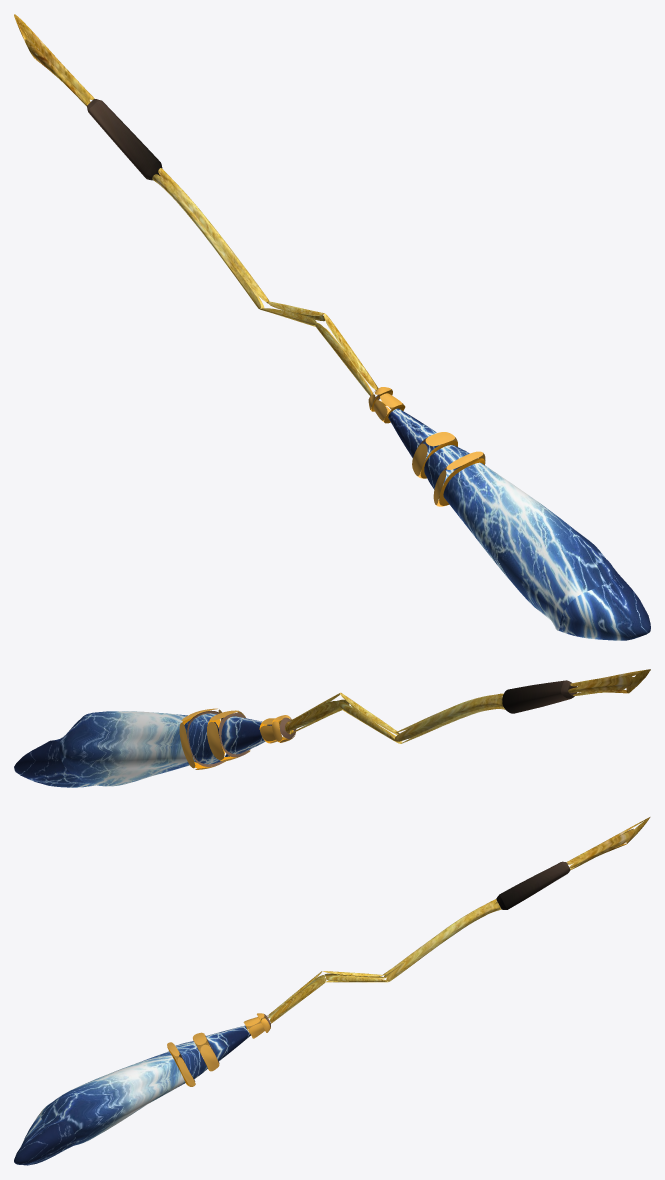
The model's file is goldLightning.glb.
3 renders of one model, top to bottom at view 1: azimuth 30°, elevation 25°; view 2: azimuth 210°, elevation 25°; view 3: azimuth 270°, elevation 25°, orthographic. The views are drawn at different scales.
Parts seen in each view (by area): view 1: MainStick; view 2: MainStick; view 3: MainStick.
Part boxes in pixels (x1,y1,x2,y2): MainStick: (14, 14, 650, 640); MainStick: (14, 669, 650, 787); MainStick: (14, 817, 650, 1165).
Size of the model in its own units: 4.77 by 7.8 by 16.2.
1 material, 1 textured.
